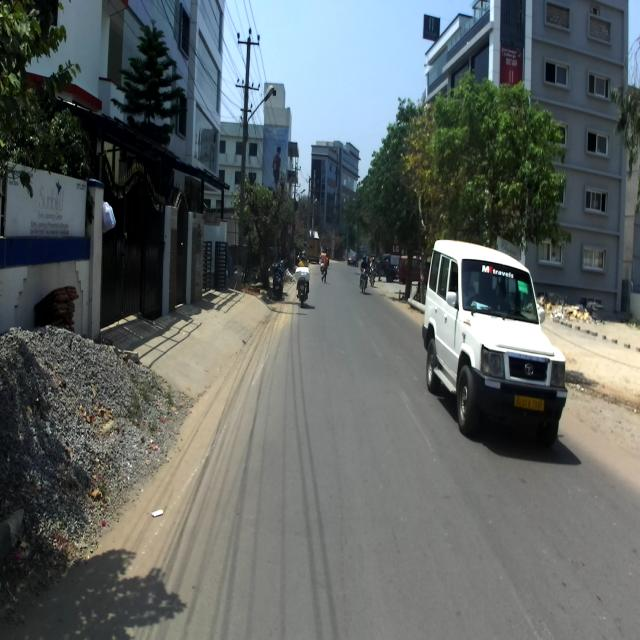car ahead at: (426, 238, 567, 436)
electric pole ahead at: (226, 21, 262, 286)
